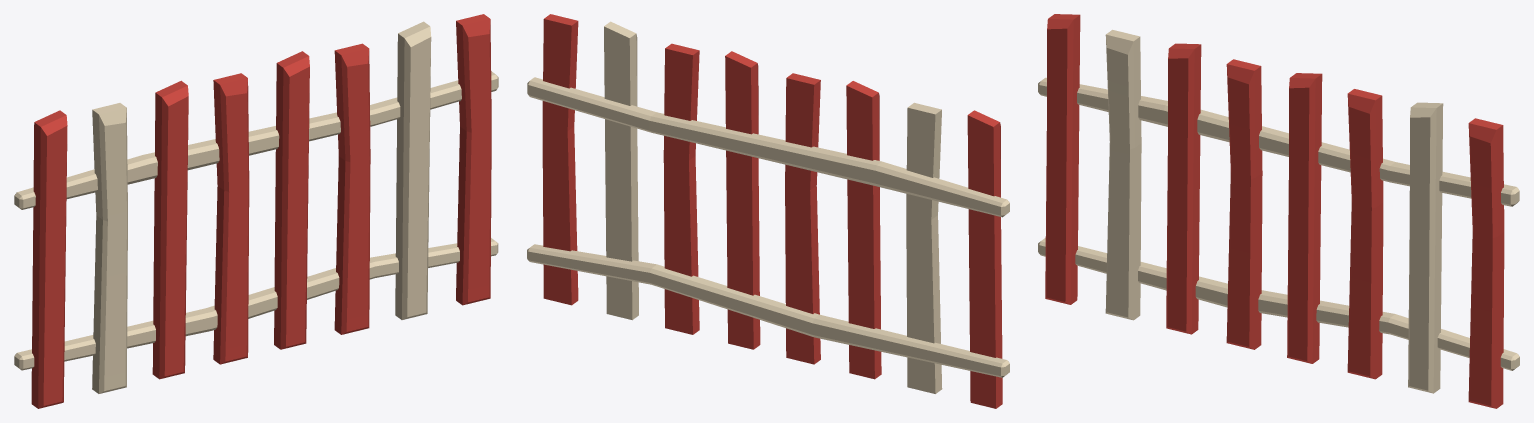
Rendered from fence_i.gltf.
The picture shows the model from 3 angles, left to right: view 1: azimuth 30°, elevation 25°; view 2: azimuth 150°, elevation 25°; view 3: azimuth 330°, elevation 25°; orthographic projection.
Parts seen in each view (by area): view 1: fence_i001; view 2: fence_i001; view 3: fence_i001.
Boxes of the visible parts, left/top/right/bottom form: fence_i001: left=14, top=14, right=498, bottom=408; fence_i001: left=527, top=14, right=1009, bottom=408; fence_i001: left=1038, top=14, right=1519, bottom=408.
Bounding box in the file's own units: 1.41 × 0.805 × 0.0812.
1 material, 1 textured.
